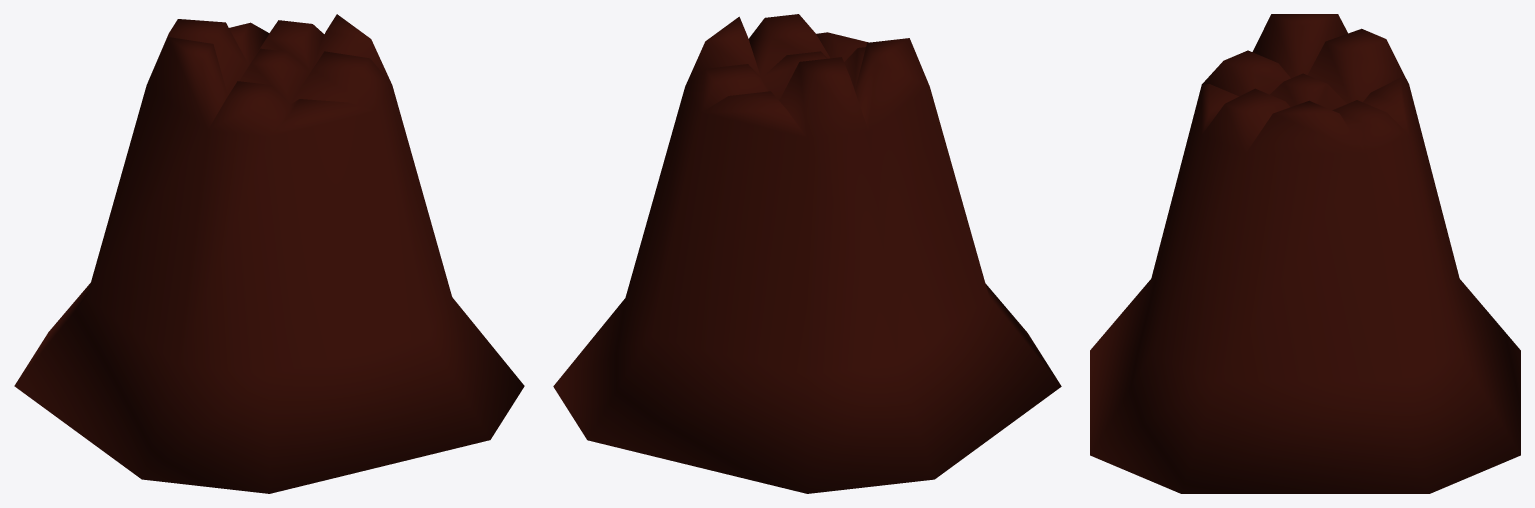
Rendered from trunk.obj.
3 renders of one model, left to right at view 1: azimuth 30°, elevation 25°; view 2: azimuth 150°, elevation 25°; view 3: azimuth 270°, elevation 25°, orthographic. The views are drawn at different scales.
Visible parts, largest first — view 1: CutTrunk_Cube.001; view 2: CutTrunk_Cube.001; view 3: CutTrunk_Cube.001.
Part boxes in pixels (left/top/right/bottom): CutTrunk_Cube.001: left=14, top=14, right=524, bottom=493; CutTrunk_Cube.001: left=553, top=14, right=1061, bottom=493; CutTrunk_Cube.001: left=1090, top=14, right=1520, bottom=493.
Bounding box in the file's own units: 1.49 × 1.33 × 1.49.
